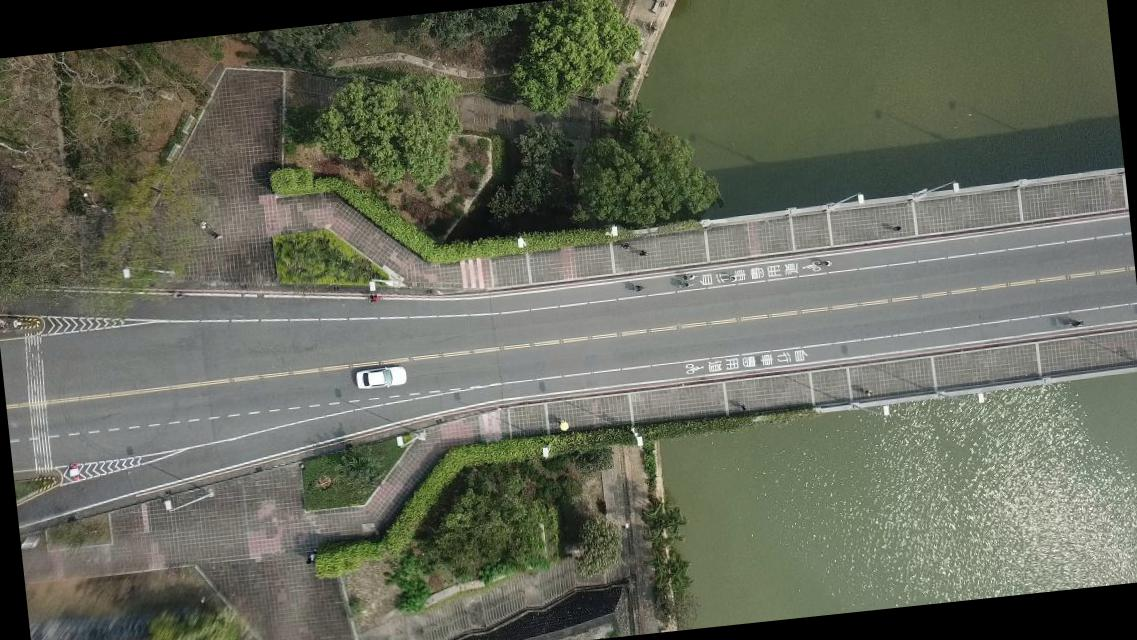vehicle: (355, 364, 407, 391)
